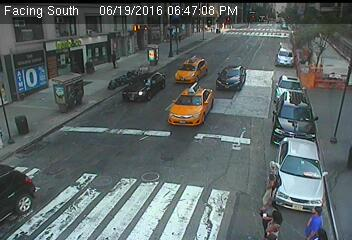neg: (144, 153, 174, 193), (89, 83, 113, 115), (157, 71, 178, 99), (285, 93, 306, 121), (227, 27, 244, 50), (291, 49, 306, 70), (246, 71, 261, 91), (105, 141, 117, 157)
pos: (253, 160, 290, 210), (305, 203, 329, 234), (262, 205, 284, 234)
